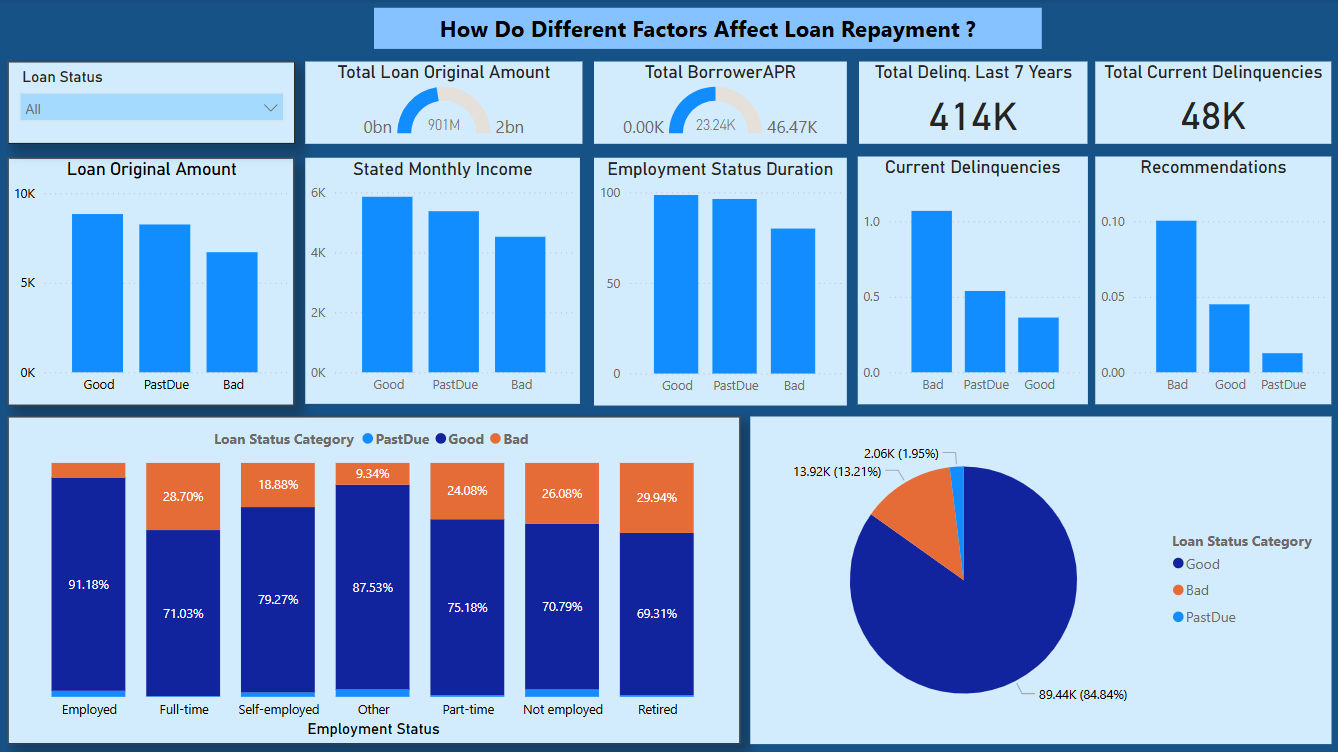

The dashboard page shown, as its layout file describes it:
{"tool":"powerbi","page":{"name":"Page 1","canvas":[1280,720],"ordinal":0},"visuals":[{"type":"clusteredColumnChart","title":"Loan Original Amount ","fields":{"Y":["Avg(prosperLoanData.LoanOriginalAmount)"],"Category":["prosperLoanData.LoanStatus_Cat"]},"box":[8.3,151.2,272.6,235.7],"z":0},{"type":"columnChart","title":"Stated Monthly Income","fields":{"Y":["Avg(prosperLoanData.StatedMonthlyIncome)"],"Category":["prosperLoanData.LoanStatus_Cat"]},"box":[291.7,151.2,261.9,234.5],"z":1000},{"type":"hundredPercentStackedColumnChart","title":"Average of Loan Original Amount by Loan Status Cat","fields":{"Category":["prosperLoanData.EmploymentStatus"],"Series":["prosperLoanData.LoanStatus_Cat"],"Y":["CountNonNull(prosperLoanData.EmploymentStatus)"]},"box":[8.3,397.6,697.6,311.9],"z":2000},{"type":"columnChart","title":"Employment Status Duration ","fields":{"Y":["Avg(prosperLoanData.EmploymentStatusDuration)"],"Category":["prosperLoanData.LoanStatus_Cat"]},"box":[566.7,151.2,240.5,235.7],"z":3000},{"type":"columnChart","title":"Current Delinquencies","fields":{"Y":["Avg(prosperLoanData.CurrentDelinquencies)"],"Category":["prosperLoanData.LoanStatus_Cat"]},"box":[817.9,150,219,235.7],"z":4000},{"type":"columnChart","title":"Recommendations","fields":{"Category":["prosperLoanData.LoanStatus_Cat"],"Y":["Avg(prosperLoanData.Recommendations)"]},"box":[1044.1,150,225,235.7],"z":5000},{"type":"pieChart","title":"Count of Loan Status","fields":{"Category":["prosperLoanData.LoanStatus_Cat"],"Y":["CountNonNull(prosperLoanData.LoanStatus_Cat)"]},"box":[715.5,397.6,553.6,311.9],"z":6000},{"type":"slicer","title":"Average of Loan Original Amount by Loan Status Cat","fields":{"Values":["prosperLoanData.LoanStatus"]},"box":[8.3,59.5,273.8,78.6],"z":7000},{"type":"gauge","fields":{"Y":["Sum(prosperLoanData.LoanOriginalAmount)"]},"box":[291.7,59.5,264.3,78.6],"z":8000},{"type":"gauge","fields":{"Y":["Sum(prosperLoanData.BorrowerAPR)"]},"box":[566.7,59.5,240.5,78.6],"z":9000},{"type":"card","title":"Total Delinq. Last 7 Years","fields":{"Values":["Sum(prosperLoanData.DelinquenciesLast7Years)"]},"box":[819.1,59.5,217.9,78.6],"z":10000},{"type":"card","title":"Total Current Delinquencies","fields":{"Values":["Sum(prosperLoanData.CurrentDelinquencies)"]},"box":[1044.1,59.5,225,78.6],"z":11000},{"type":"textbox","box":[357.1,8.3,635.7,39.3],"z":11001}]}

Visuals, with their boxes in screenshot pixels (x1, y1, x2, y2), scaled from the page's 1280x720 canvas onto the 1338x752 screenshot:
"Loan Original Amount " clusteredColumnChart: bbox=(9, 158, 294, 404)
"Stated Monthly Income" columnChart: bbox=(305, 158, 579, 403)
"Average of Loan Original Amount by Loan Status Cat" hundredPercentStackedColumnChart: bbox=(9, 415, 738, 741)
"Employment Status Duration " columnChart: bbox=(592, 158, 844, 404)
"Current Delinquencies" columnChart: bbox=(855, 157, 1084, 403)
"Recommendations" columnChart: bbox=(1091, 157, 1327, 403)
"Count of Loan Status" pieChart: bbox=(748, 415, 1327, 741)
"Average of Loan Original Amount by Loan Status Cat" slicer: bbox=(9, 62, 295, 144)
gauge - Sum(prosperLoanData.LoanOriginalAmount): bbox=(305, 62, 581, 144)
gauge - Sum(prosperLoanData.BorrowerAPR): bbox=(592, 62, 844, 144)
"Total Delinq. Last 7 Years" card: bbox=(856, 62, 1084, 144)
"Total Current Delinquencies" card: bbox=(1091, 62, 1327, 144)
textbox: bbox=(373, 9, 1038, 50)
